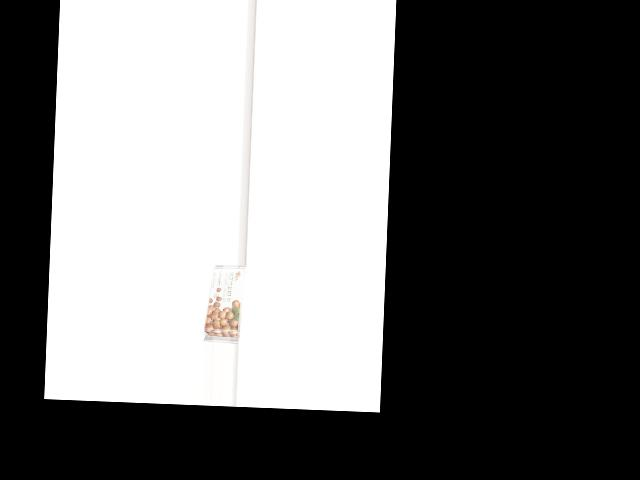chocolate: (203, 263, 243, 342)
